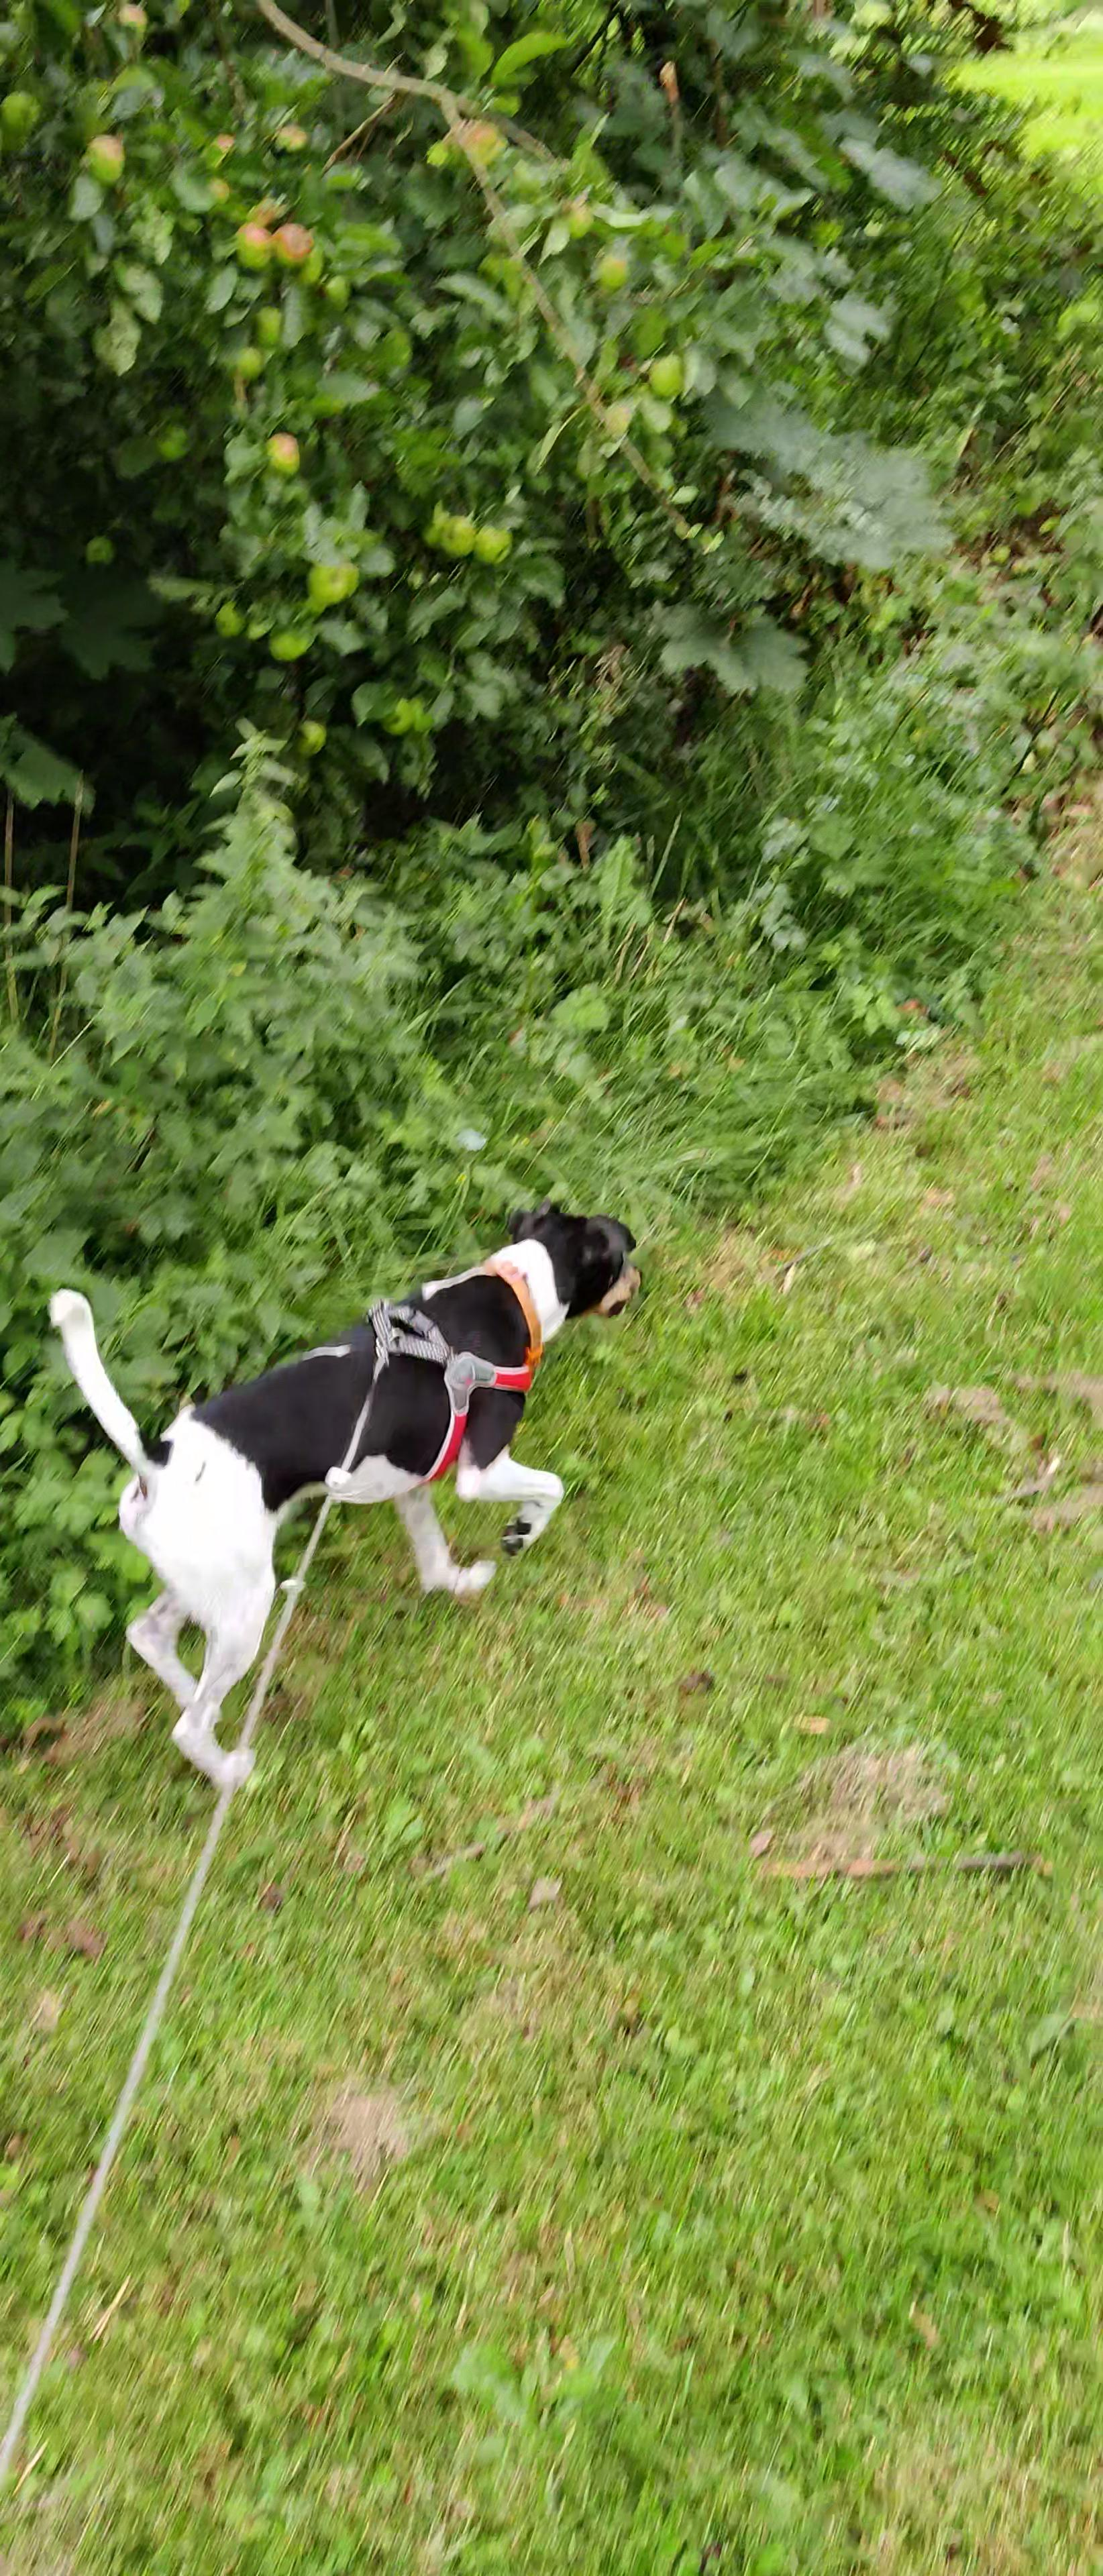Dog: (39, 1193, 644, 1789)
